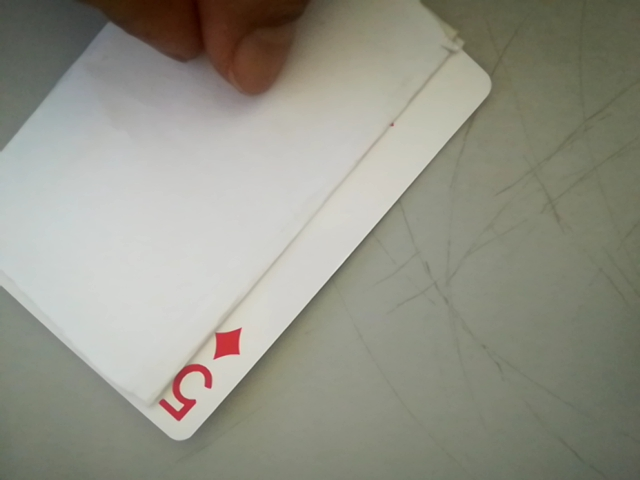fk 5: (153, 321, 250, 435)
